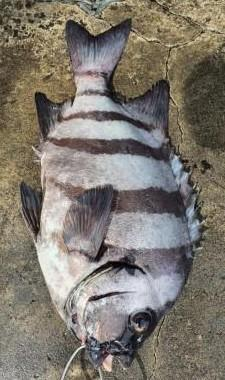fish: (21, 19, 200, 370)
